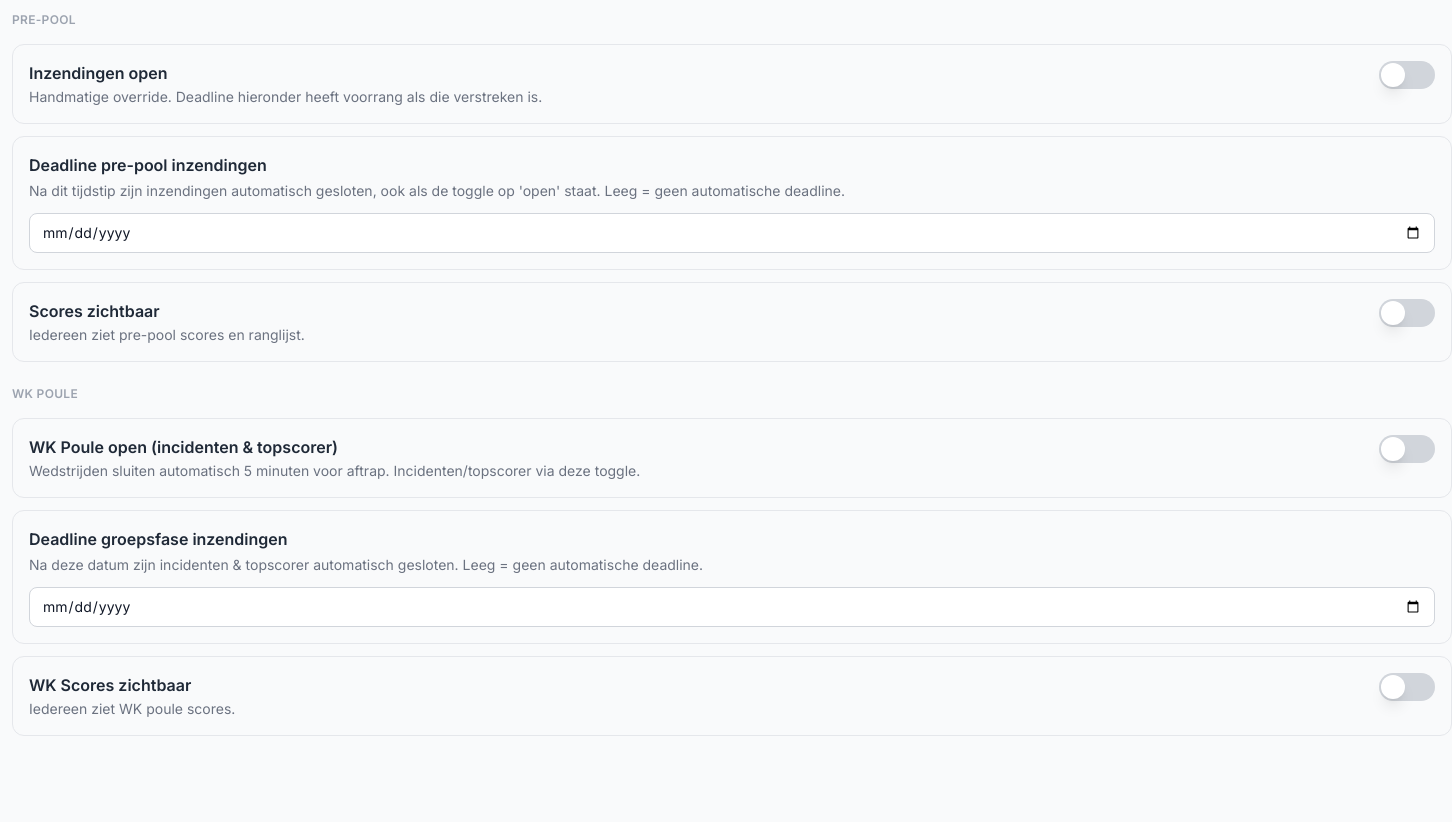
Test: AdminToggles › shows success status after successful save
Click the switch in the row of "Inzendingen open": (1407, 75) [1379,61,1435,89]
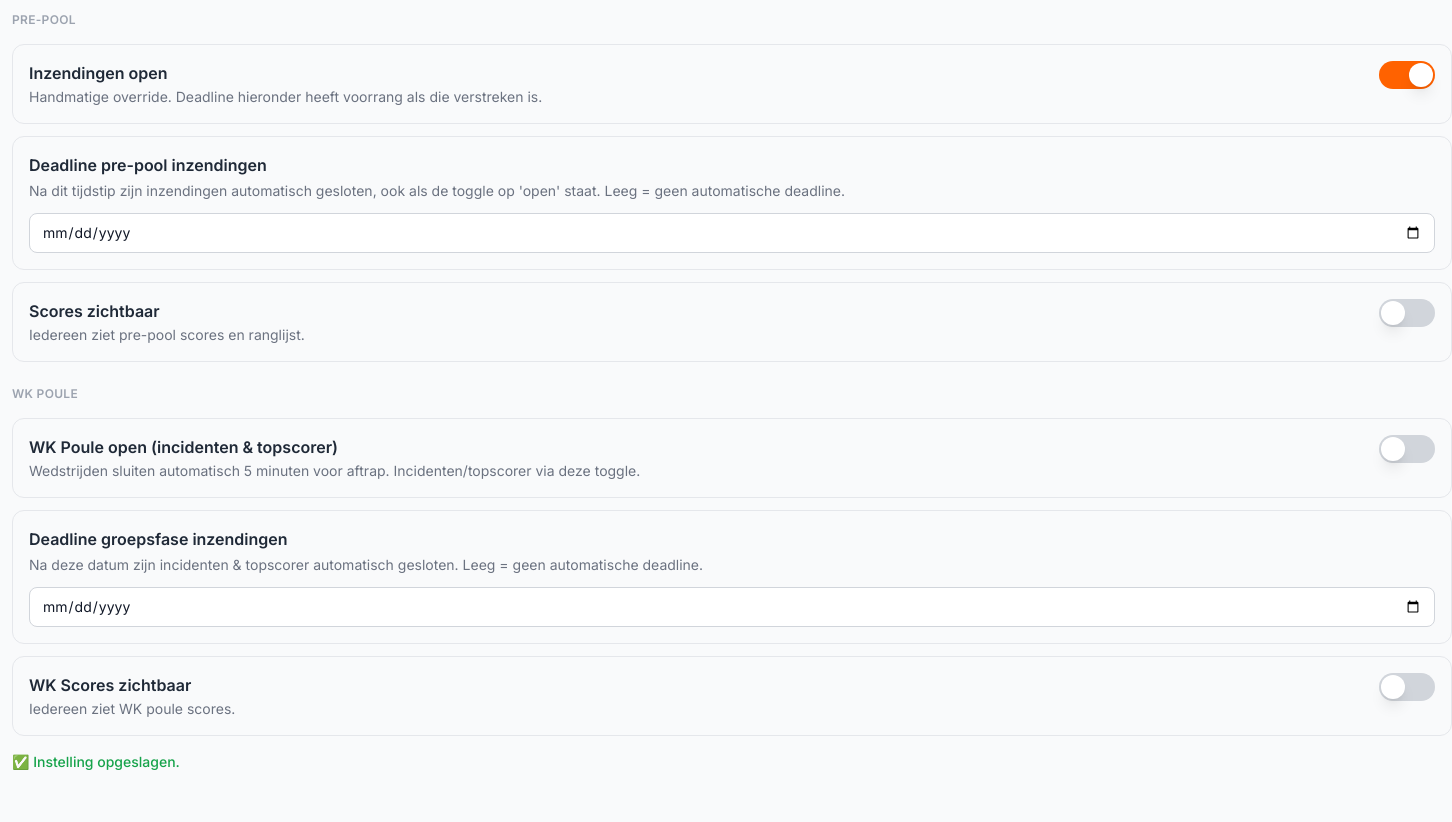
Expected: the text "✅ Instelling opgeslagen." is shown, [12,753,180,770]
